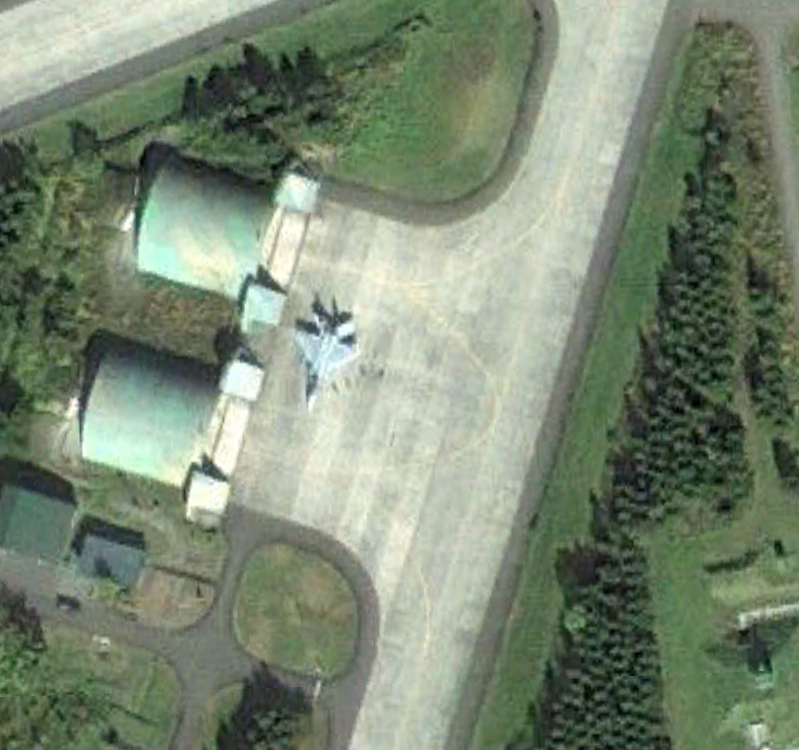A13: (289, 293, 366, 419)
